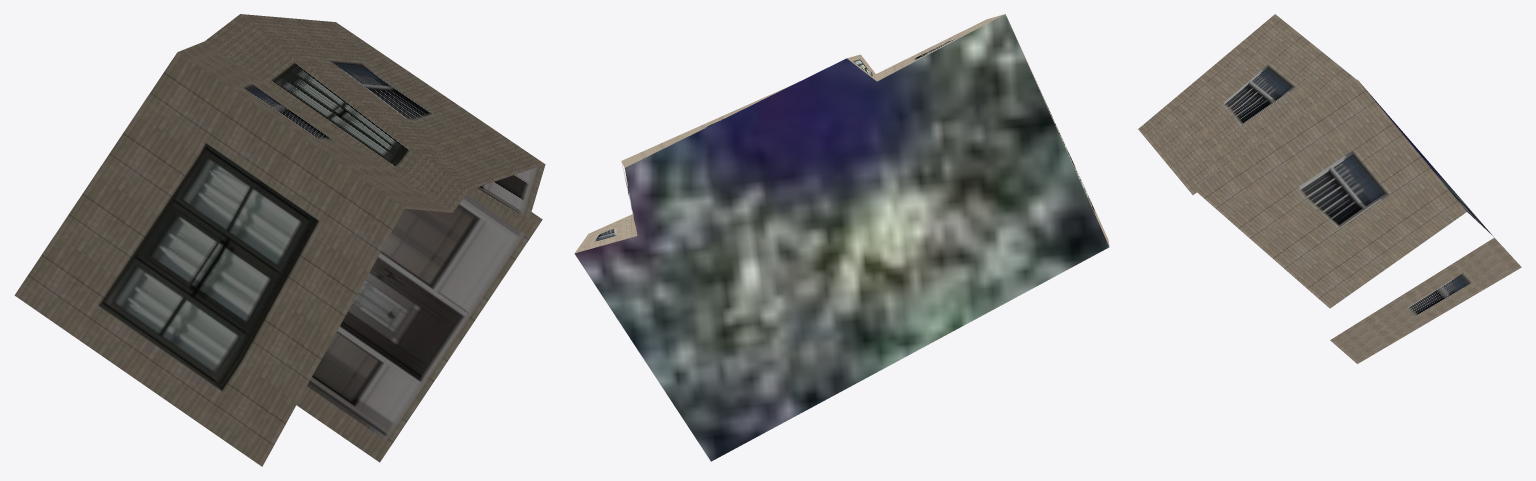
Rendered from tile_LOD8_r5_c6.glb.
3 renders of one model, left to right at view 1: azimuth 30°, elevation 25°; view 2: azimuth 150°, elevation 25°; view 3: azimuth 270°, elevation 25°, orthographic. The views are drawn at different scales.
Bounding box in the file's own units: 8 × 7.25 × 7.
Materials: 4 (4 with a texture image).
